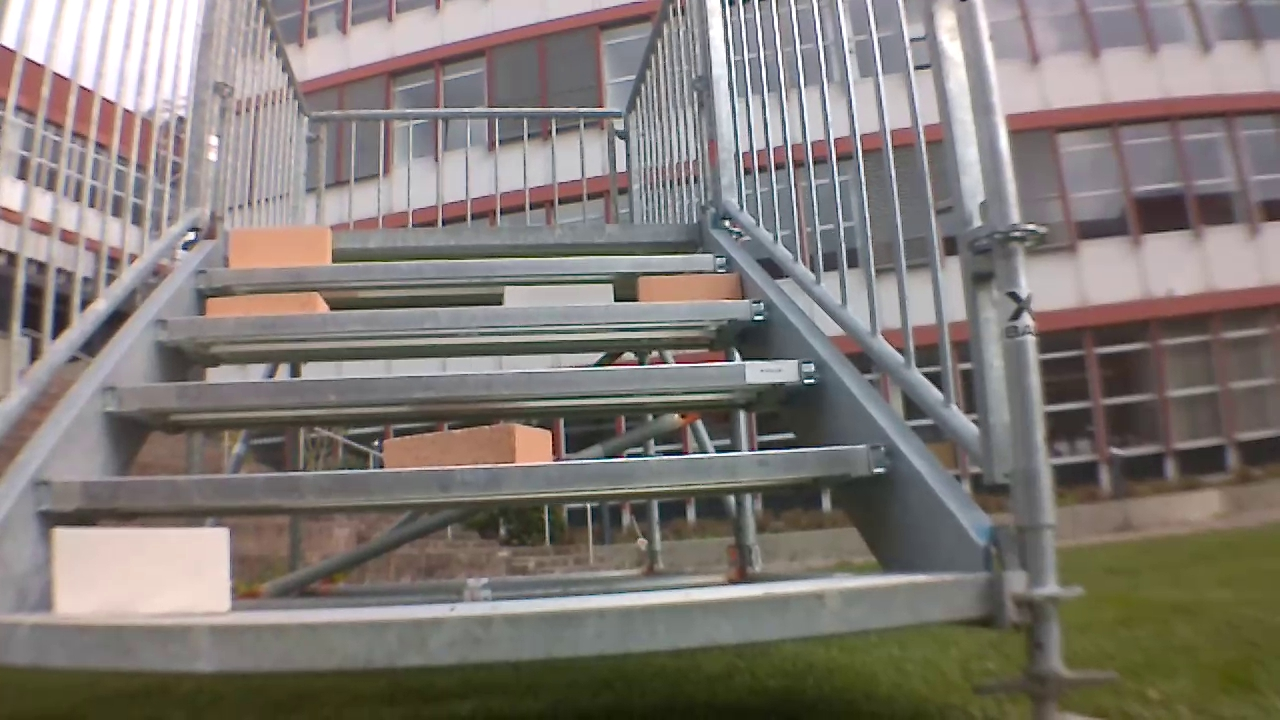brick: (53, 527, 229, 613), (384, 422, 552, 469), (228, 226, 331, 267), (639, 273, 742, 300), (207, 293, 327, 315), (503, 284, 613, 305)
edge: (2, 575, 995, 669), (34, 444, 890, 506), (102, 358, 819, 407), (152, 300, 766, 335), (194, 254, 726, 285), (201, 222, 698, 245)
stairs: (4, 3, 1091, 712)
steps: (1, 214, 998, 672)
